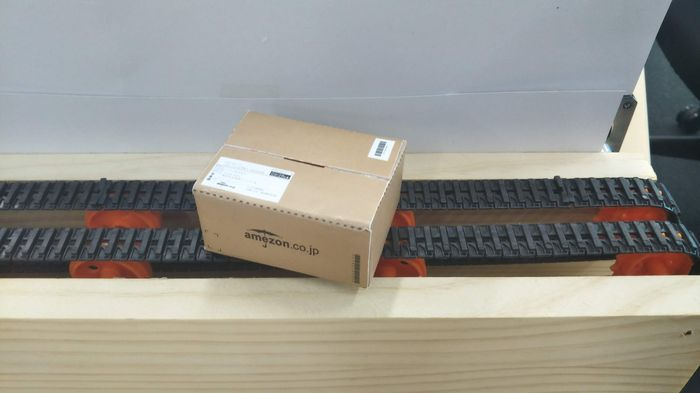box1: (191, 106, 408, 289)
